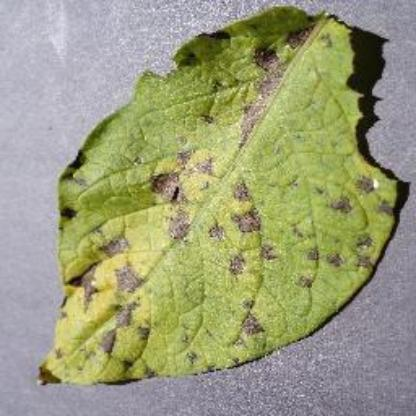Early-Blight: (34, 9, 400, 392)
